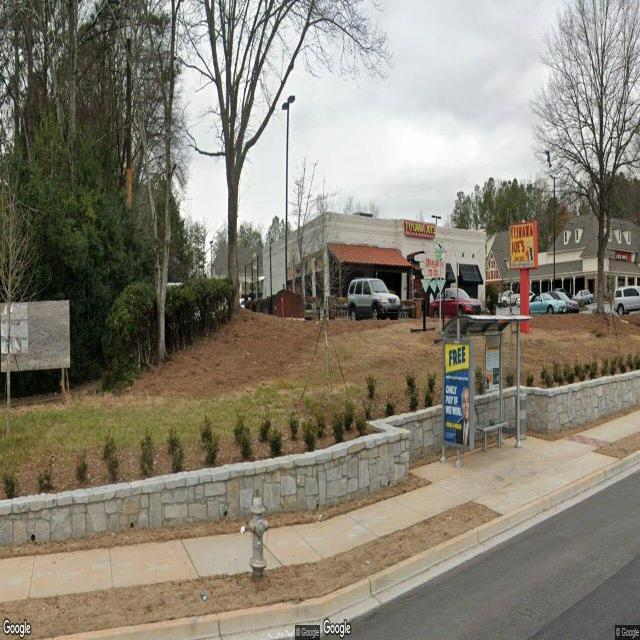seating: (477, 422, 506, 453)
shelter: (444, 312, 530, 464)
trash_can: (518, 404, 528, 444)
